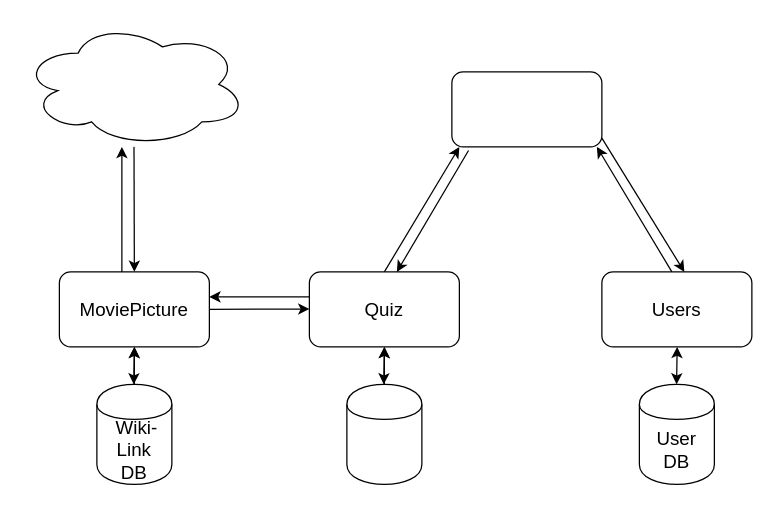
Some shapes in this 774 by 506 pixel diagram are drawn without their labels. The shapes that lost their labels are listed below. From the top down, each one's box as (x1, y1, x2, y2) in pixels, then its label:
(21, 21, 247, 147): Wikipedia
(451, 71, 602, 147): Frontend
(346, 383, 422, 484): Quiz DB
